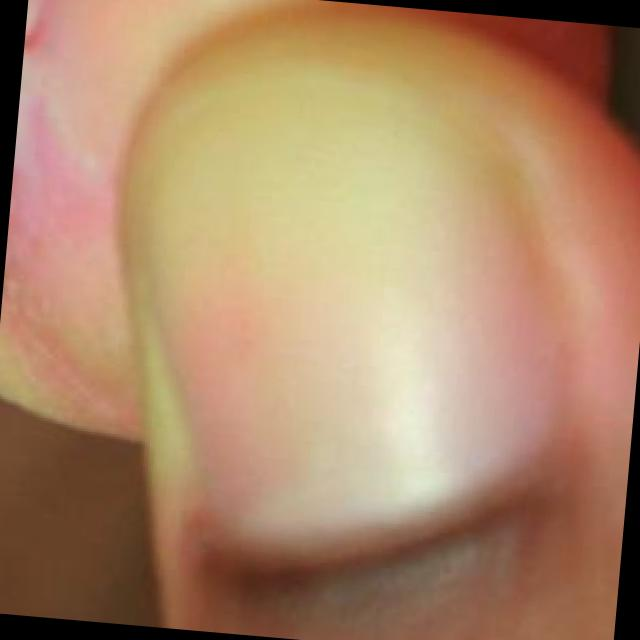Nail: (141, 66, 556, 552)
